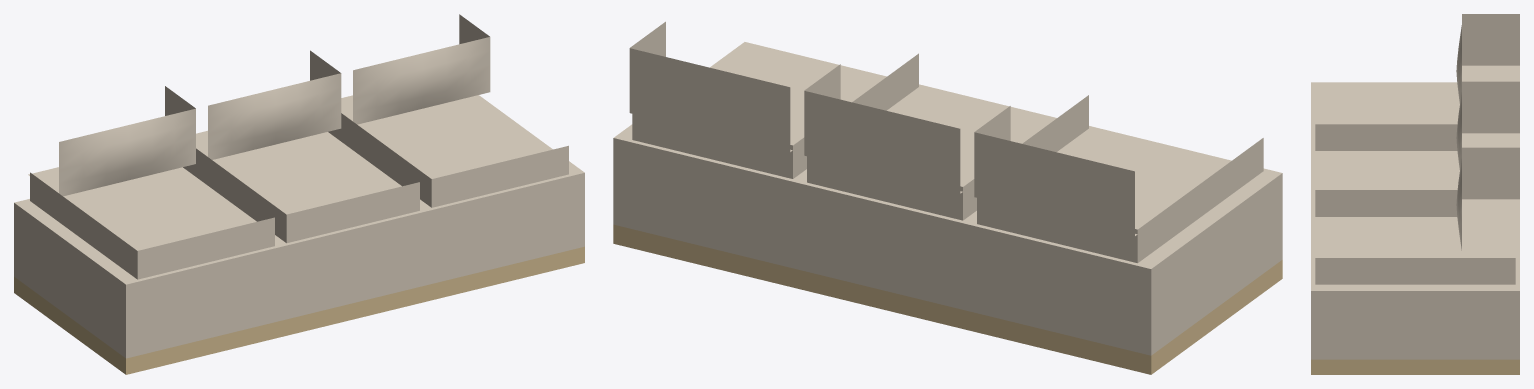
The model's file is ikea-soderhamn-3.glb.
The picture shows the model from 3 angles, left to right: view 1: azimuth 30°, elevation 25°; view 2: azimuth 150°, elevation 25°; view 3: azimuth 270°, elevation 25°; orthographic projection. The views are drawn at different scales.
Bounding box in the file's own units: 2.34 × 0.83 × 0.99.
